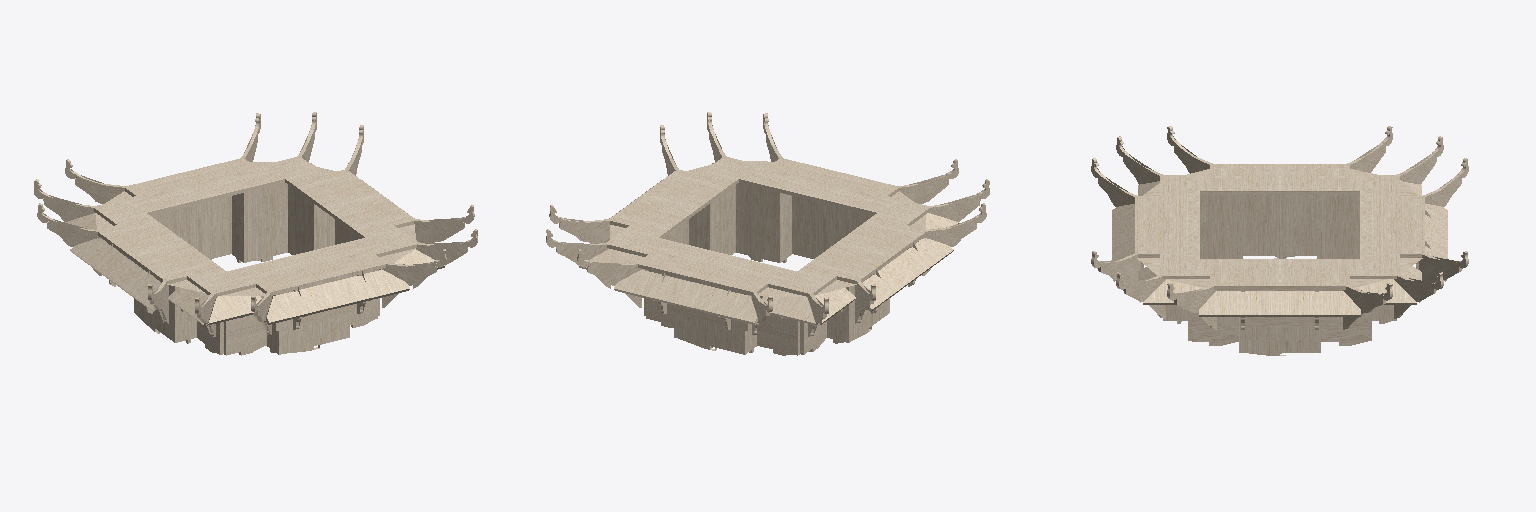
3 renders of one model, left to right at view 1: azimuth 30°, elevation 25°; view 2: azimuth 150°, elevation 25°; view 3: azimuth 270°, elevation 25°, orthographic.
Parts seen in each view (by area): view 1: Mesh158 ___587_3 ___603_1 ___661_1 Model, Mesh140 ___587_1 ___603_1 ___661_1 Model, Mesh167 ___587_4 ___603_1 ___661_1 Model, Mesh149 ___587_2 ___603_1 ___661_1 Model, Mesh96 ___581_8 ___596_4 ___666_1 Model, Mesh86 ___570_4 ___596_4 ___666_1 Model, Mesh119 ___571_2 ___622_1 ___661_1 Model, Mesh115 ___571_1 ___622_1 ___661_1 Model, Mesh14 ___570_1 ___596_1 ___666_1 Model, Mesh43 ___581_3 ___596_2 ___666_1 Model, Mesh24 ___581_2 ___596_1 ___666_1 Model, Mesh178 ___571_4 ___622_2 ___661_1 Model (+13 smaller); view 2: Mesh167 ___587_4 ___603_1 ___661_1 Model, Mesh149 ___587_2 ___603_1 ___661_1 Model, Mesh158 ___587_3 ___603_1 ___661_1 Model, Mesh140 ___587_1 ___603_1 ___661_1 Model, Mesh19 ___581_1 ___596_1 ___666_1 Model, Mesh14 ___570_1 ___596_1 ___666_1 Model, Mesh221 ___571_7 ___622_4 ___661_1 Model, Mesh225 ___571_8 ___622_4 ___661_1 Model, Mesh48 ___581_4 ___596_2 ___666_1 Model, Mesh174 ___571_3 ___622_2 ___661_1 Model, Mesh86 ___570_4 ___596_4 ___666_1 Model, Mesh91 ___581_7 ___596_4 ___666_1 Model (+13 smaller); view 3: Mesh140 ___587_1 ___603_1 ___661_1 Model, Mesh149 ___587_2 ___603_1 ___661_1 Model, Mesh167 ___587_4 ___603_1 ___661_1 Model, Mesh158 ___587_3 ___603_1 ___661_1 Model, Mesh62 ___570_3 ___596_3 ___666_1 Model, Mesh67 ___581_5 ___596_3 ___666_1 Model, Mesh72 ___581_6 ___596_3 ___666_1 Model, Mesh197 ___571_5 ___622_3 ___661_1 Model, Mesh201 ___571_6 ___622_3 ___661_1 Model, Mesh38 ___570_2 ___596_2 ___666_1 Model, Mesh48 ___581_4 ___596_2 ___666_1 Model, Mesh43 ___581_3 ___596_2 ___666_1 Model (+16 smaller).
Boxes of the visible parts, <box> form: Mesh158 ___587_3 ___603_1 ___661_1 Model: <box>131,242,327,296</box>; Mesh140 ___587_1 ___603_1 ___661_1 Model: <box>296,195,417,281</box>; Mesh167 ___587_4 ___603_1 ___661_1 Model: <box>94,172,215,258</box>; Mesh149 ___587_2 ___603_1 ___661_1 Model: <box>184,157,380,210</box>; Mesh96 ___581_8 ___596_4 ___666_1 Model: <box>247,183,287,261</box>; Mesh86 ___570_4 ___596_4 ___666_1 Model: <box>180,196,231,259</box>; Mesh119 ___571_2 ___622_1 ___661_1 Model: <box>266,283,339,324</box>; Mesh115 ___571_1 ___622_1 ___661_1 Model: <box>328,270,409,307</box>; Mesh14 ___570_1 ___596_1 ___666_1 Model: <box>277,291,349,354</box>; Mesh43 ___581_3 ___596_2 ___666_1 Model: <box>288,185,311,254</box>; Mesh24 ___581_2 ___596_1 ___666_1 Model: <box>224,296,266,355</box>; Mesh178 ___571_4 ___622_2 ___661_1 Model: <box>70,238,130,281</box>; Mesh167 ___587_4 ___603_1 ___661_1 Model: <box>696,242,892,296</box>; Mesh149 ___587_2 ___603_1 ___661_1 Model: <box>606,195,727,281</box>; Mesh158 ___587_3 ___603_1 ___661_1 Model: <box>808,172,929,258</box>; Mesh140 ___587_1 ___603_1 ___661_1 Model: <box>643,157,839,210</box>; Mesh19 ___581_1 ___596_1 ___666_1 Model: <box>736,183,776,261</box>; Mesh14 ___570_1 ___596_1 ___666_1 Model: <box>792,196,843,258</box>; Mesh221 ___571_7 ___622_4 ___661_1 Model: <box>684,283,757,324</box>; Mesh225 ___571_8 ___622_4 ___661_1 Model: <box>614,270,695,307</box>; Mesh48 ___581_4 ___596_2 ___666_1 Model: <box>712,185,735,254</box>; Mesh174 ___571_3 ___622_2 ___661_1 Model: <box>893,238,953,281</box>; Mesh86 ___570_4 ___596_4 ___666_1 Model: <box>674,291,746,354</box>; Mesh91 ___581_7 ___596_4 ___666_1 Model: <box>757,296,799,355</box>; Mesh140 ___587_1 ___603_1 ___661_1 Model: <box>1135,225,1279,289</box>; Mesh149 ___587_2 ___603_1 ___661_1 Model: <box>1280,225,1424,289</box>; Mesh167 ___587_4 ___603_1 ___661_1 Model: <box>1280,164,1424,224</box>; Mesh158 ___587_3 ___603_1 ___661_1 Model: <box>1135,164,1279,224</box>; Mesh62 ___570_3 ___596_3 ___666_1 Model: <box>1243,195,1316,258</box>; Mesh67 ___581_5 ___596_3 ___666_1 Model: <box>1200,195,1238,258</box>; Mesh72 ___581_6 ___596_3 ___666_1 Model: <box>1321,195,1359,258</box>; Mesh197 ___571_5 ___622_3 ___661_1 Model: <box>1280,291,1360,316</box>; Mesh201 ___571_6 ___622_3 ___661_1 Model: <box>1199,291,1279,316</box>; Mesh38 ___570_2 ___596_2 ___666_1 Model: <box>1239,290,1320,355</box>; Mesh48 ___581_4 ___596_2 ___666_1 Model: <box>1192,290,1238,345</box>; Mesh43 ___581_3 ___596_2 ___666_1 Model: <box>1321,290,1367,345</box>.
Bounding box in the file's own units: 189 × 56.21 × 189.
2 materials, 1 textured.